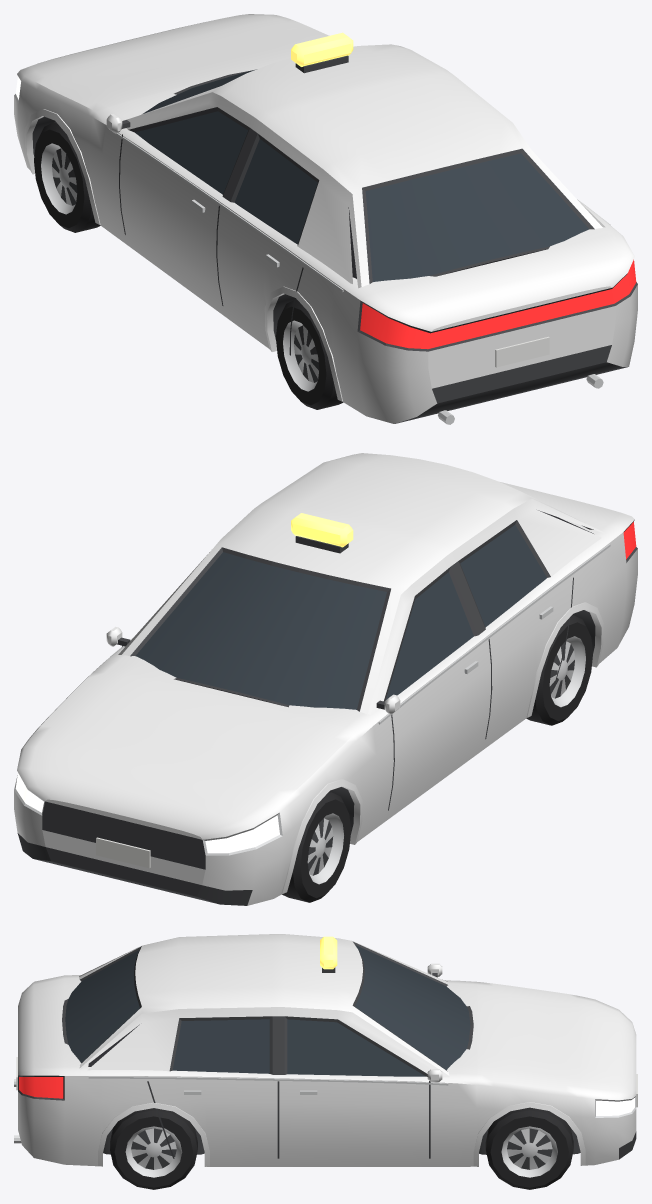
File: Taxi.fbx
The picture shows the model from 3 angles, top to bottom: view 1: azimuth 30°, elevation 25°; view 2: azimuth 150°, elevation 25°; view 3: azimuth 270°, elevation 25°; orthographic projection. The views are drawn at different scales.
Visible parts, largest first — view 1: Body, Wheel_FL, Wheel_RL; view 2: Body, Wheel_FL, Wheel_RL; view 3: Body, Wheel_FR, Wheel_RR.
Part boxes in pixels (left/top/right/bottom): Body: left=14, top=14, right=637, bottom=424; Wheel_FL: left=34, top=122, right=100, bottom=232; Wheel_RL: left=276, top=299, right=343, bottom=409; Body: left=14, top=453, right=637, bottom=905; Wheel_FL: left=282, top=791, right=351, bottom=902; Wheel_RL: left=526, top=615, right=592, bottom=725; Body: left=14, top=934, right=637, bottom=1166; Wheel_FR: left=485, top=1107, right=573, bottom=1189; Wheel_RR: left=110, top=1108, right=197, bottom=1189.
Size of what is drawn, in the model's own units: 1.94 by 1.62 by 4.68.
